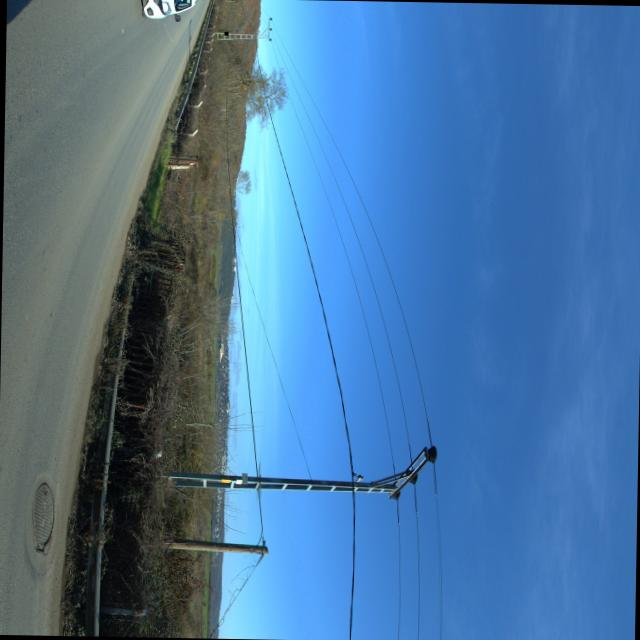Utility Pole Information Plate: (223, 32, 227, 35)
